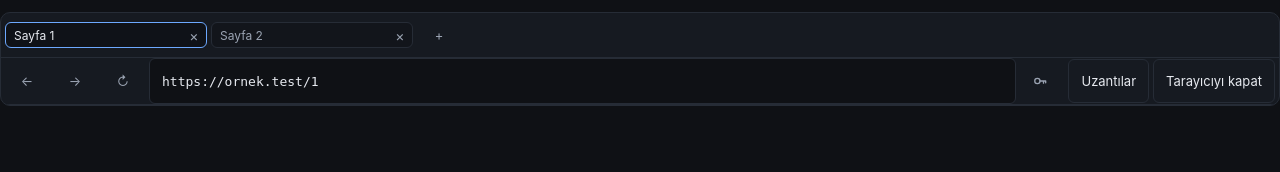
Scenario: BrowserTabsPanel: tab strip › an engine error on + (tab limit) is shown
The width and height of the screenshot is (1280, 172).
Click the button named "Yeni sekme": (439, 35) [417,13,461,57]
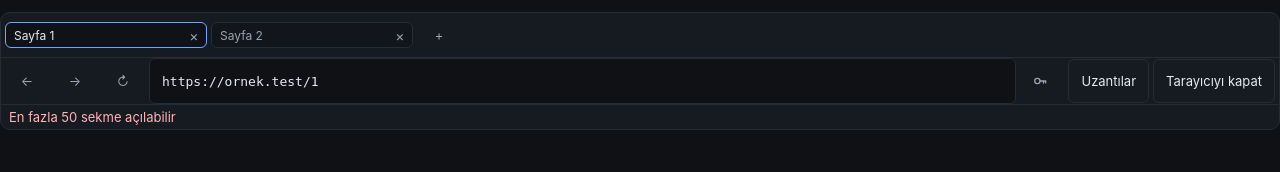
Now the message shows "En fazla 50 sekme", box [9,109,176,125]
